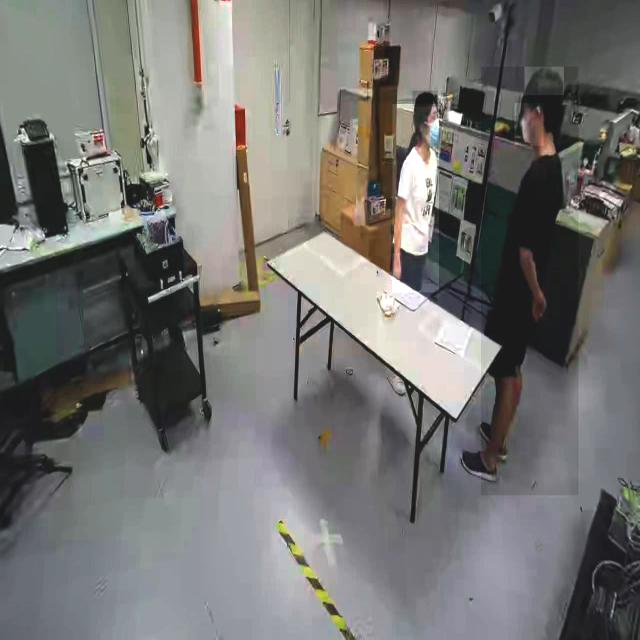face_mask: (514, 103, 544, 146), (424, 100, 441, 150)
hand_noglove: (530, 290, 548, 324), (390, 253, 402, 280)
head_nohelmet: (524, 67, 564, 96), (412, 90, 438, 108)
person: (481, 67, 579, 496), (392, 104, 440, 293)
shoes: (458, 445, 499, 489), (478, 418, 516, 460)
